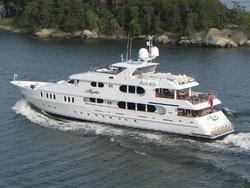yacht: (9, 33, 237, 140)
